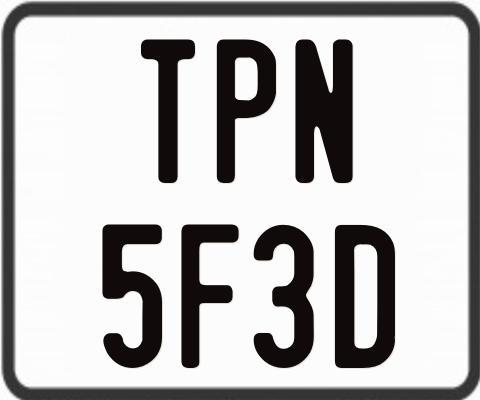3: (254, 222, 315, 367)
5: (100, 224, 165, 372)
D: (332, 222, 393, 367)
F: (178, 224, 240, 374)
N: (294, 39, 356, 187)
P: (215, 39, 278, 187)
T: (139, 39, 197, 187)
